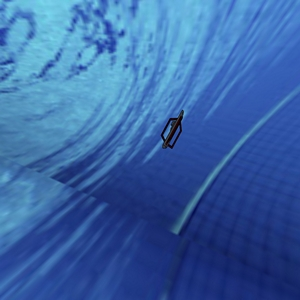submarine: (146, 99, 197, 163)
